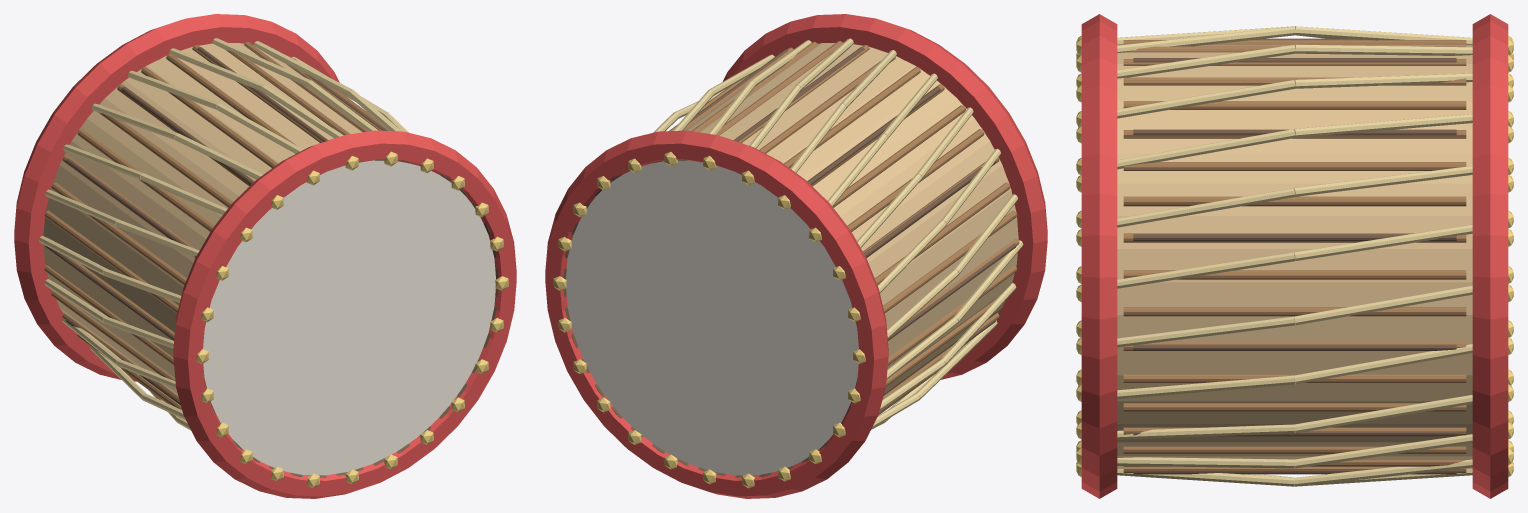
Rendered from gakki_okedo_daiko.glb.
3 renders of one model, left to right at view 1: azimuth 30°, elevation 25°; view 2: azimuth 150°, elevation 25°; view 3: azimuth 270°, elevation 25°, orthographic. The views are drawn at different scales.
Parts seen in each view (by area): view 1: Okedo cylindrical long stave drum taut drum skin, Okedo cylindrical long stave drum hardwood shell, Okedo decorative rim, Okedo decorative rim.001, Wooden okedo staves.013, Wooden okedo staves.014, Wooden okedo staves.011, Wooden okedo staves.016, Wooden okedo staves.017, Wooden okedo staves.010, Wooden okedo staves.020, Wooden okedo staves.019 (+25 smaller); view 2: Okedo cylindrical long stave drum taut drum skin.001, Okedo cylindrical long stave drum hardwood shell, Okedo decorative rim.001, Okedo decorative rim, Wooden okedo staves.013, Wooden okedo staves.014, Wooden okedo staves.011, Wooden okedo staves.017, Wooden okedo staves.010, Wooden okedo staves.008, Wooden okedo staves.016, Wooden okedo staves.019 (+25 smaller); view 3: Okedo cylindrical long stave drum hardwood shell, Okedo decorative rim, Okedo decorative rim.001, Wooden okedo staves.004, Wooden okedo staves.005, Wooden okedo staves.001, Wooden okedo staves.002, Wooden okedo staves.034, Wooden okedo staves.007, Wooden okedo staves.035, Wooden okedo staves.032, Okedo cylindrical long stave drum wood grain (+39 smaller).
Part boxes in pixels (bbox=[...]): Okedo cylindrical long stave drum taut drum skin: bbox=[203, 160, 495, 475]; Okedo cylindrical long stave drum hardwood shell: bbox=[43, 43, 362, 405]; Okedo decorative rim: bbox=[173, 130, 516, 498]; Okedo decorative rim.001: bbox=[14, 14, 339, 381]; Wooden okedo staves.013: bbox=[98, 112, 232, 207]; Wooden okedo staves.014: bbox=[77, 129, 214, 231]; Wooden okedo staves.011: bbox=[141, 67, 277, 167]; Wooden okedo staves.016: bbox=[51, 182, 186, 285]; Wooden okedo staves.017: bbox=[44, 210, 178, 313]; Wooden okedo staves.010: bbox=[166, 53, 296, 145]; Wooden okedo staves.020: bbox=[51, 291, 175, 380]; Wooden okedo staves.019: bbox=[44, 265, 173, 365]; Okedo cylindrical long stave drum taut drum skin.001: bbox=[566, 160, 858, 475]; Okedo cylindrical long stave drum hardwood shell: bbox=[685, 42, 1018, 395]; Okedo decorative rim.001: bbox=[545, 130, 888, 498]; Okedo decorative rim: bbox=[722, 14, 1047, 379]; Wooden okedo staves.013: bbox=[832, 105, 965, 207]; Wooden okedo staves.014: bbox=[847, 129, 984, 231]; Wooden okedo staves.011: bbox=[784, 67, 920, 167]; Wooden okedo staves.017: bbox=[883, 210, 1017, 313]; Wooden okedo staves.010: bbox=[759, 56, 895, 153]; Wooden okedo staves.008: bbox=[716, 41, 842, 135]; Wooden okedo staves.016: bbox=[875, 182, 1010, 285]; Wooden okedo staves.019: bbox=[888, 265, 1017, 365]; Okedo cylindrical long stave drum hardwood shell: bbox=[1117, 44, 1472, 468]; Okedo decorative rim: bbox=[1081, 14, 1117, 498]; Okedo decorative rim.001: bbox=[1472, 14, 1508, 498]; Wooden okedo staves.004: bbox=[1123, 196, 1466, 206]; Wooden okedo staves.005: bbox=[1123, 162, 1466, 170]; Wooden okedo staves.001: bbox=[1123, 307, 1466, 316]; Wooden okedo staves.002: bbox=[1123, 270, 1466, 279]; Wooden okedo staves.034: bbox=[1123, 403, 1466, 411]; Wooden okedo staves.007: bbox=[1123, 101, 1466, 109]; Wooden okedo staves.035: bbox=[1123, 374, 1466, 382]; Wooden okedo staves.032: bbox=[1123, 446, 1466, 453]; Okedo cylindrical long stave drum wood grain: bbox=[1133, 344, 1456, 350].
Size of the model in its own units: 1.95 by 1.95 by 1.75.
